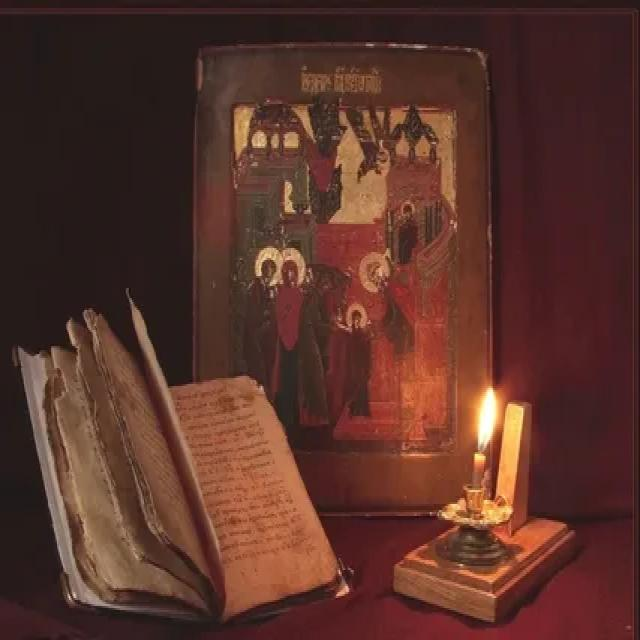book: (7, 285, 371, 640)
